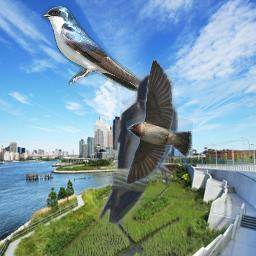Swallow: (98, 73, 178, 224), (42, 6, 146, 92), (126, 59, 193, 185)
